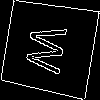W: (24, 22, 76, 77)
